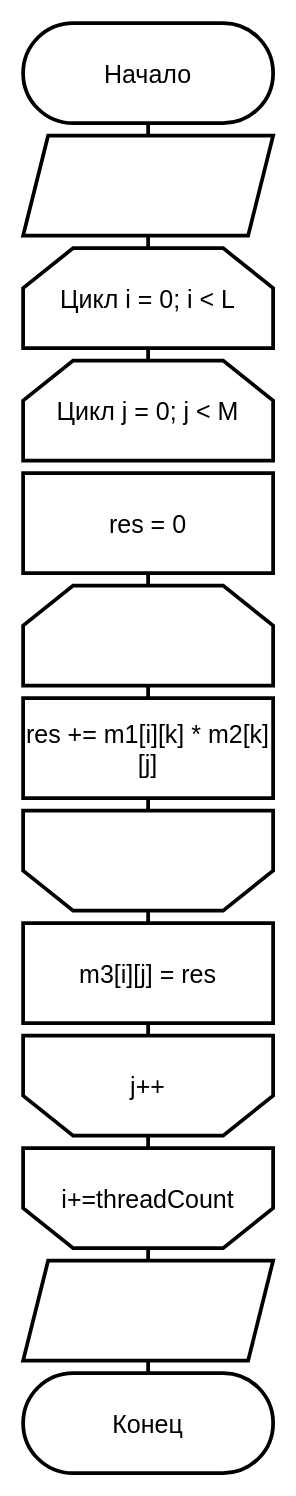
Image size: 296x1496. Some labels were removed from this diagram. Each missing label, with the centre of its shape:
"k++" belongs at point 147,860.
"m3[L][N]" belongs at point 147,1310.
"Матрицы m1[L][M] и m2[M][N]" belongs at point 147,185.
"Цикл k = 0; k < N" belongs at point 147,635.
